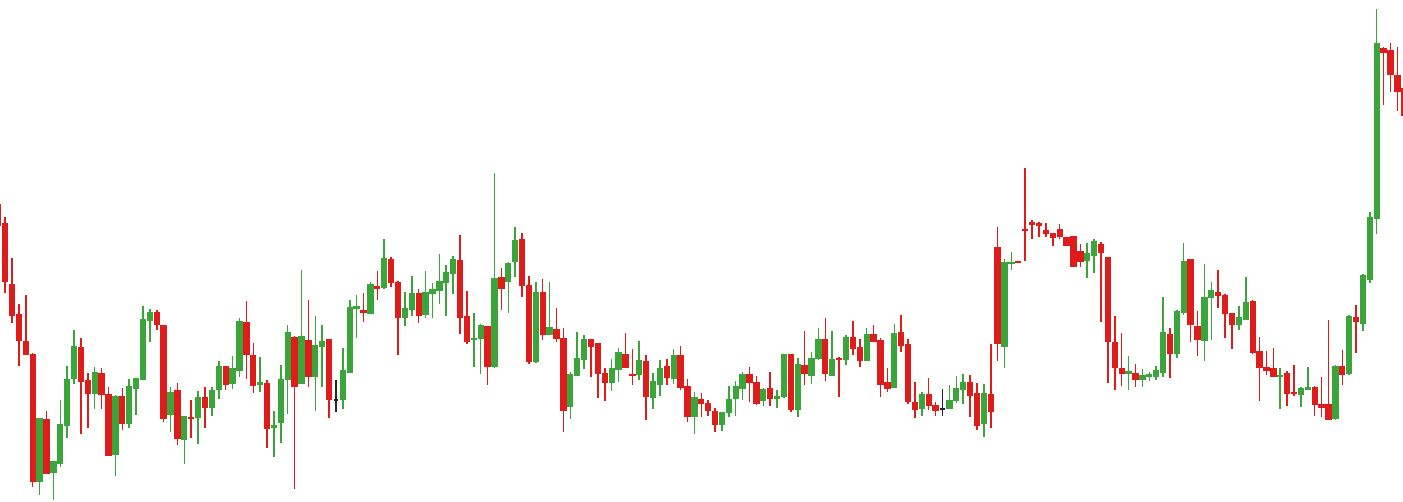sell: (455, 158, 506, 328), (70, 300, 169, 377), (850, 306, 906, 368)
